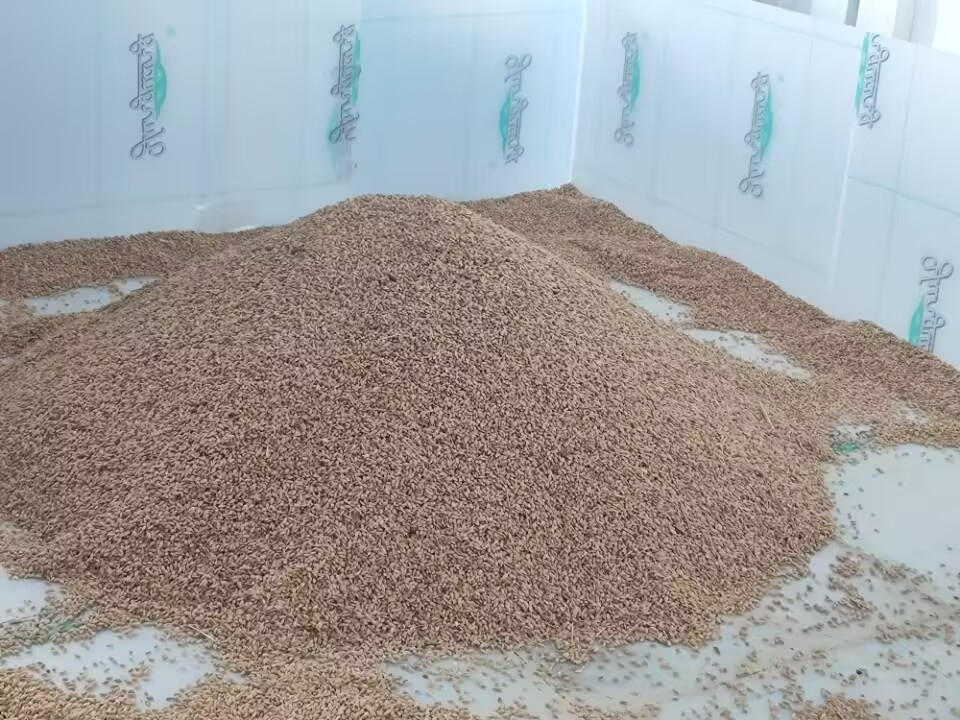Grain: (95, 181, 803, 593)
